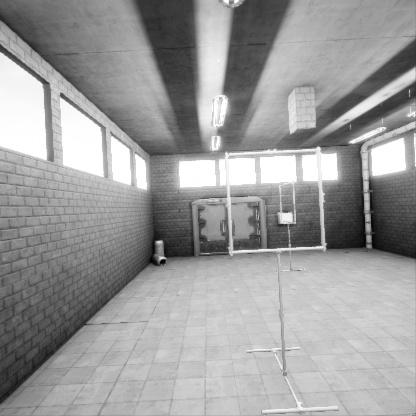gate: (227, 167, 328, 268), (279, 193, 296, 236)
